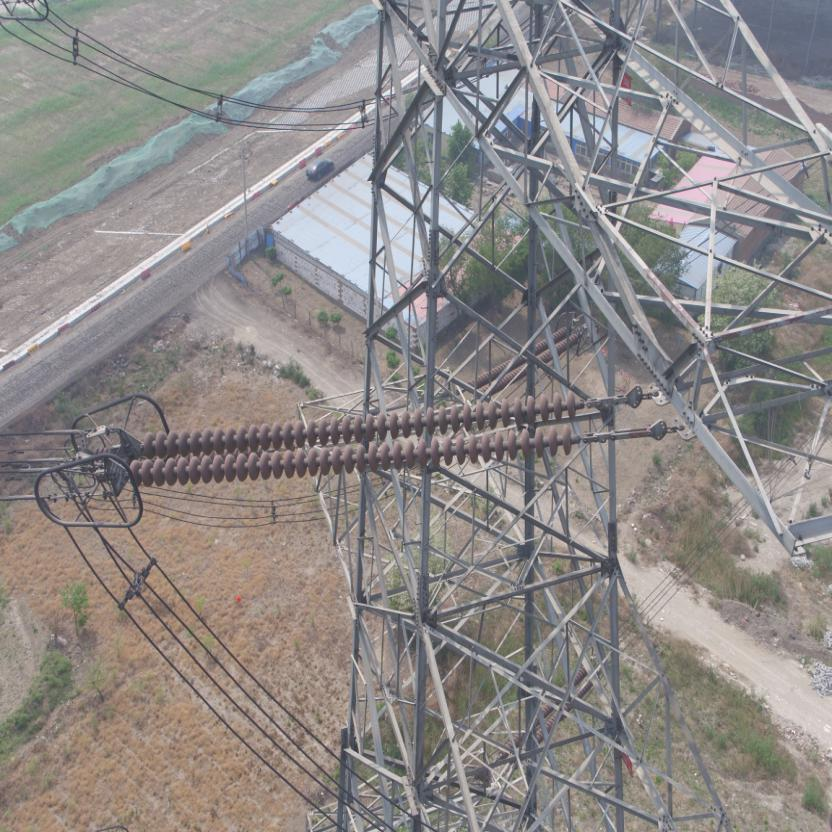insulator: (119, 387, 613, 489)
